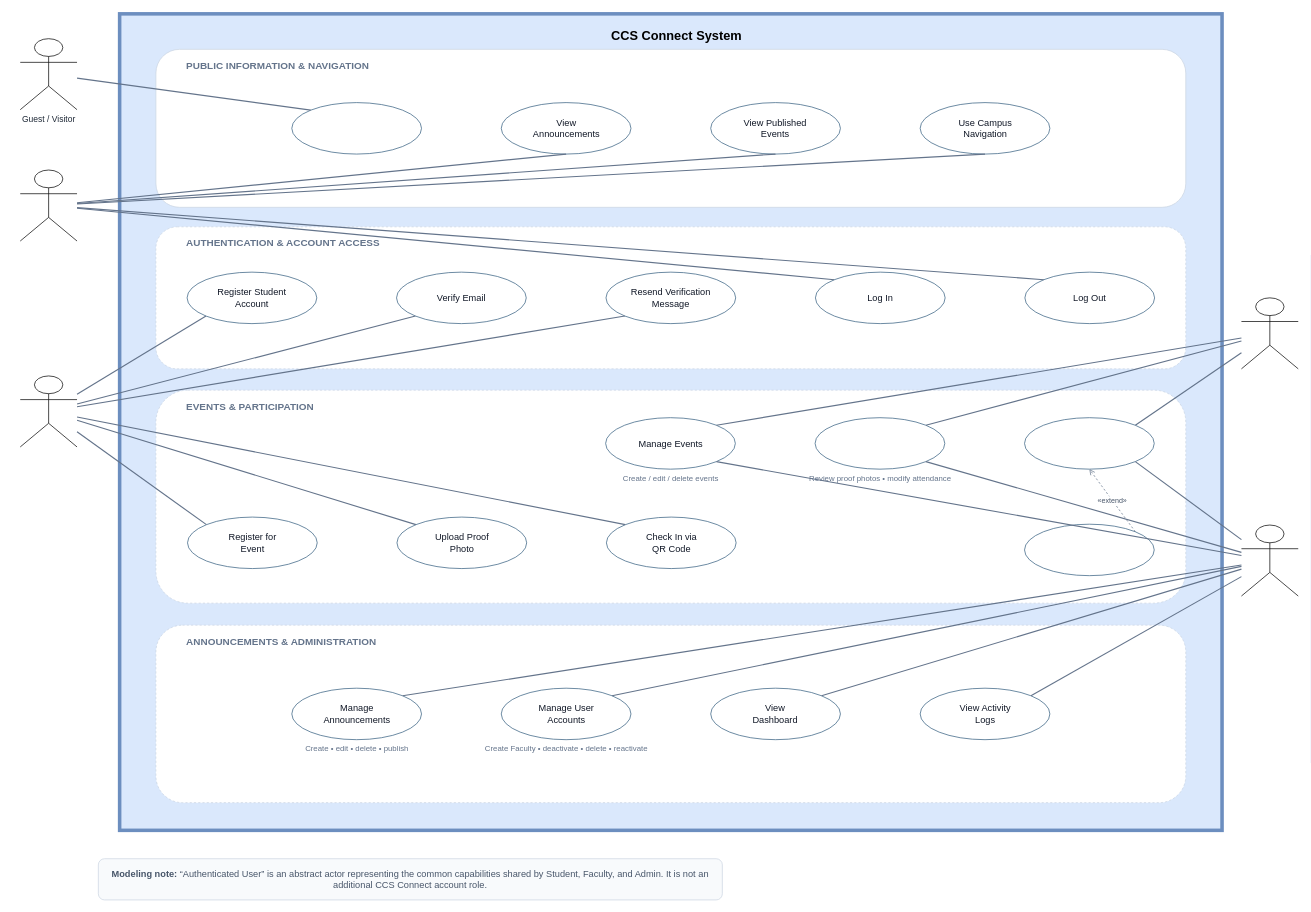
The diagram is 1311 pixels wide and 912 high, and some of its shapes have lost their labels. Here are the shapes that lost their labels. From the top down, the centre of each, then its label:
(x=356, y=128): View CCS Introduction
(x=48, y=205): Authenticated User
(x=1269, y=333): Faculty
(x=48, y=411): Student
(x=879, y=443): Manage Event Participation
(x=1089, y=443): Generate Event Report
(x=1089, y=549): Export Report (PDF / Excel)
(x=1269, y=560): Admin
